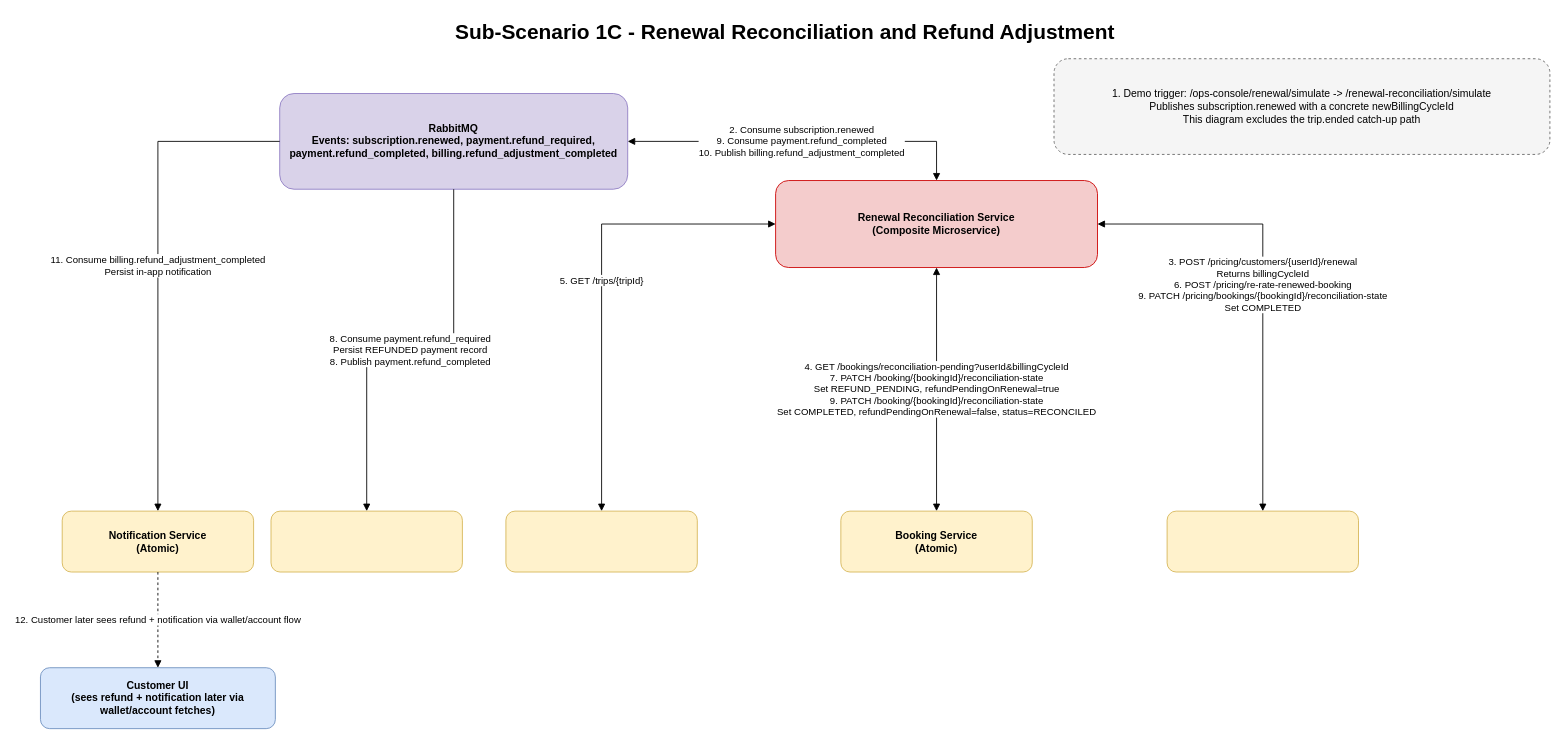
Some shapes in this 1565 by 744 pixel diagram are drawn without their labels. The centre of each missing label's shape, as x and y in pixels:
Payment Service (Atomic): the point at 366,541
Pricing Service (Atomic): the point at 1262,541
Trip Service (Atomic): the point at 601,541
